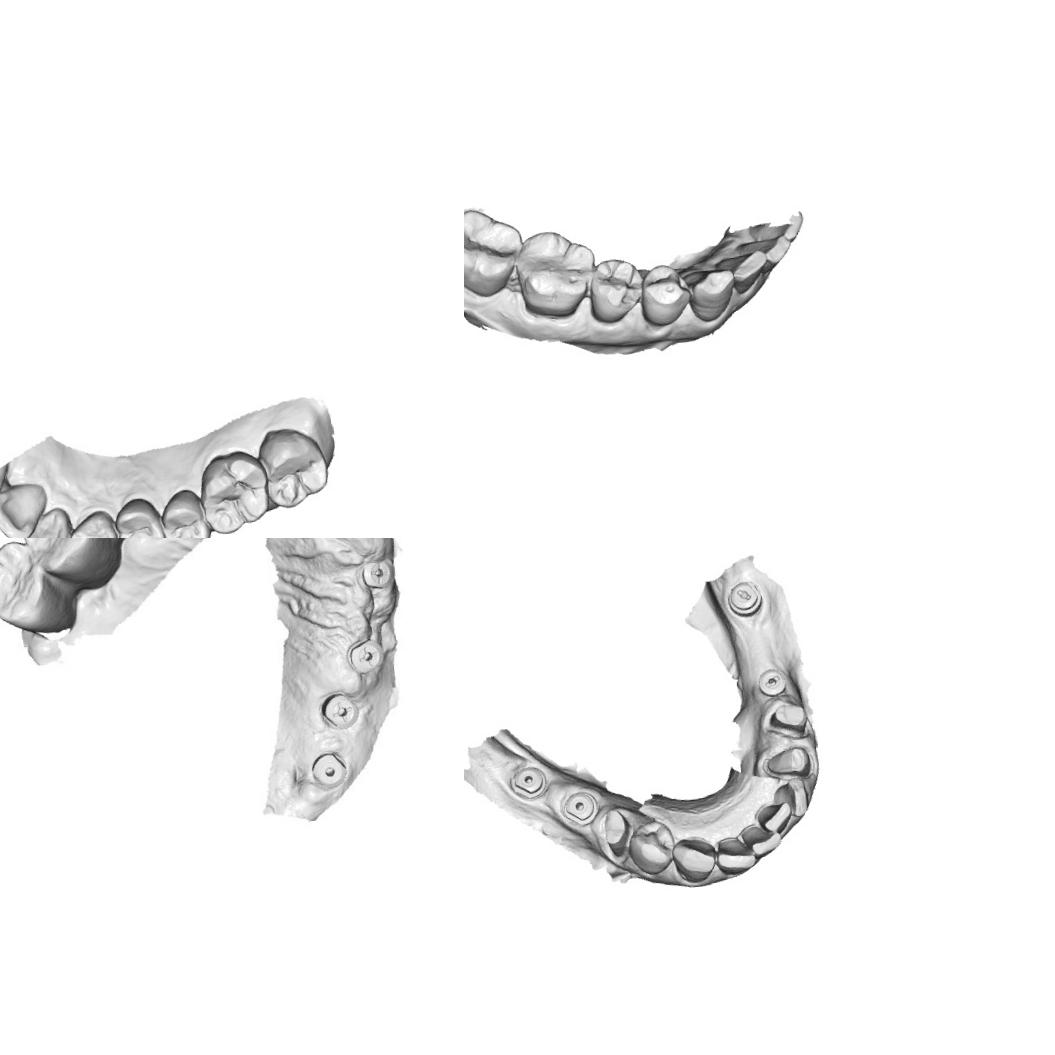canine: (682, 264, 740, 326), (669, 834, 720, 886), (63, 509, 122, 538)
crown: (762, 742, 814, 781), (598, 805, 634, 861), (766, 698, 811, 736)
implant: (306, 746, 352, 796), (558, 788, 602, 828), (510, 761, 550, 801)
implant_minus: (724, 577, 765, 619), (755, 666, 791, 699)
implant_plus: (341, 630, 390, 681), (319, 685, 360, 732), (356, 552, 397, 596)
incisor: (0, 480, 51, 538), (715, 248, 774, 298), (712, 833, 758, 877), (732, 233, 794, 265), (20, 504, 76, 538), (769, 776, 811, 820), (740, 821, 783, 859), (754, 800, 796, 837)
molar: (0, 538, 80, 649), (513, 225, 602, 323), (194, 448, 274, 538), (12, 538, 125, 599), (256, 423, 332, 512), (464, 203, 529, 303)
premolar: (584, 255, 650, 327), (635, 262, 695, 330), (625, 816, 680, 879), (158, 486, 214, 538), (112, 495, 168, 538)
